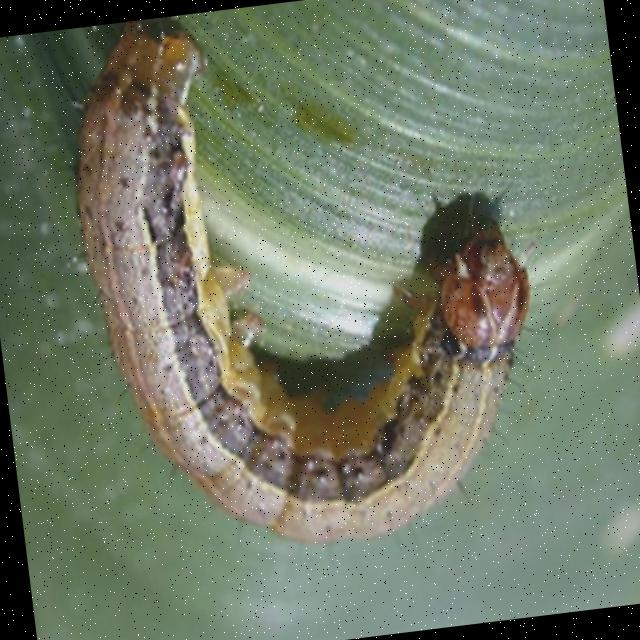worm: (52, 1, 570, 576)
